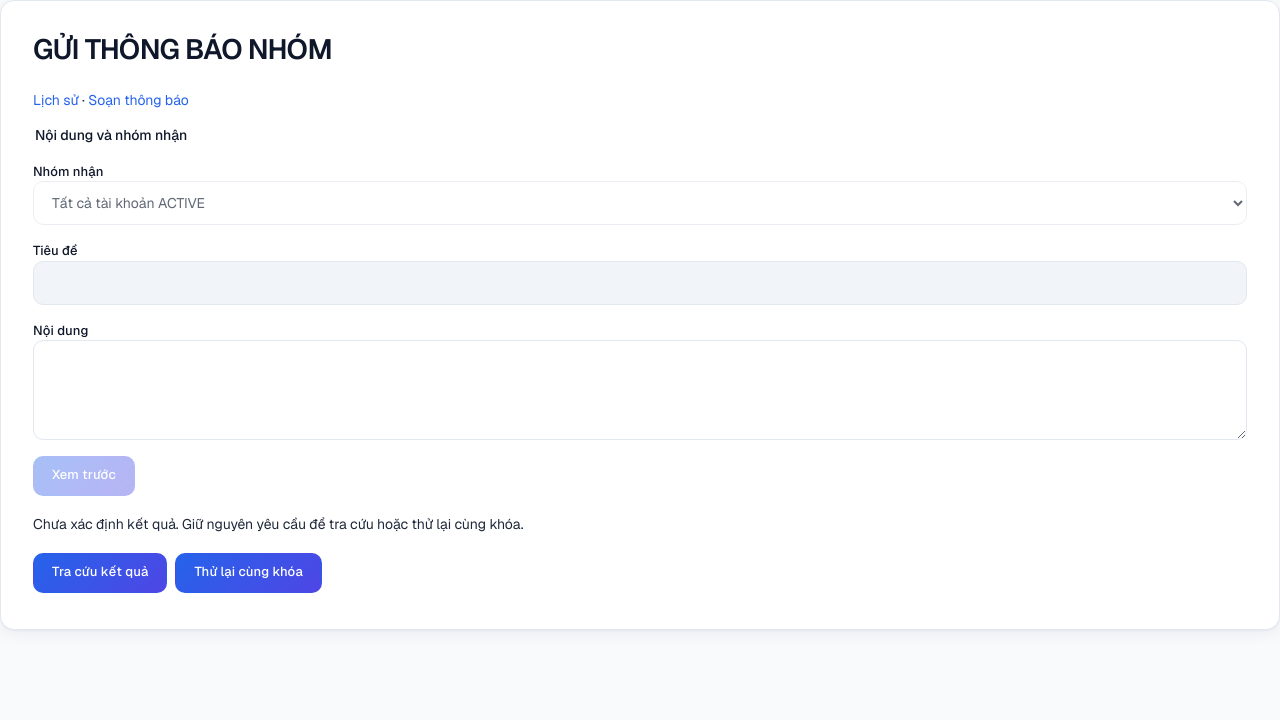
Test case: US-48: giao diện preview/confirm/resolve › tải lại trang giữ yêu cầu chưa rõ kết quả và resolve bằng đúng khóa
Click the button "Tra cứu kết quả".
click(100, 573)  # box [33,553,167,593]
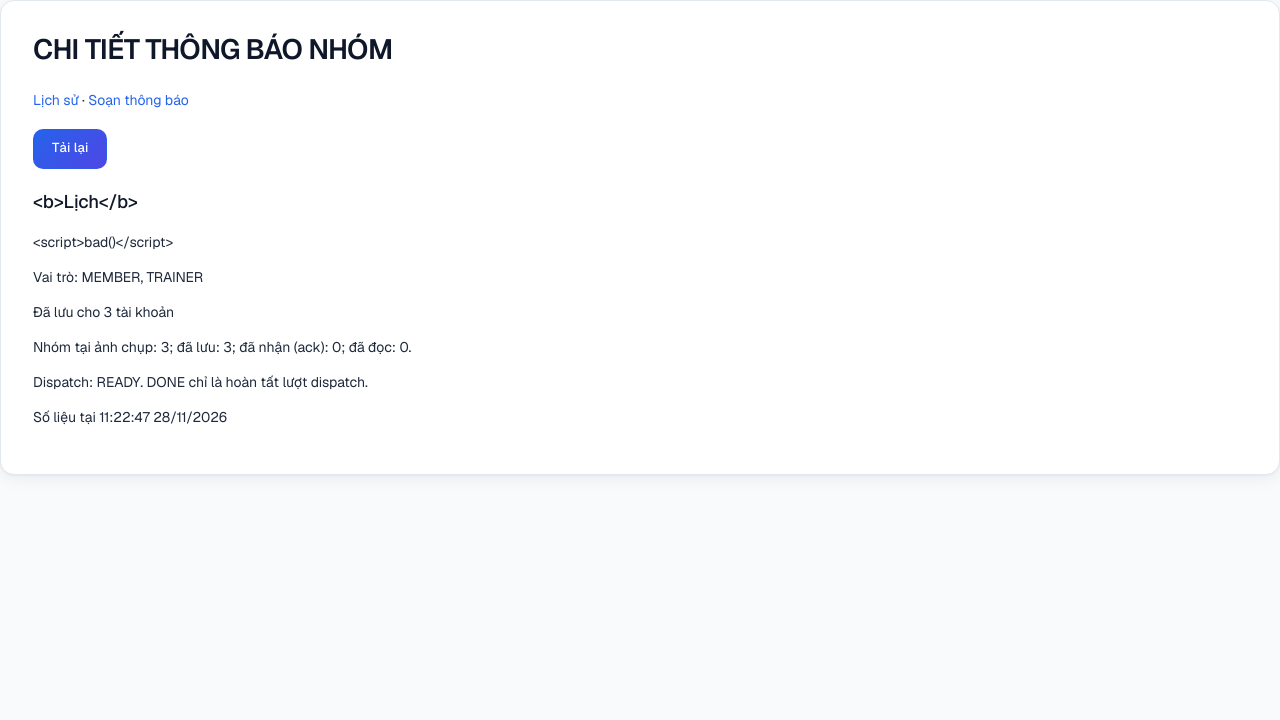
Expected: the text "Đã lưu cho 3 tài khoản" is shown, [33,303,174,321]
